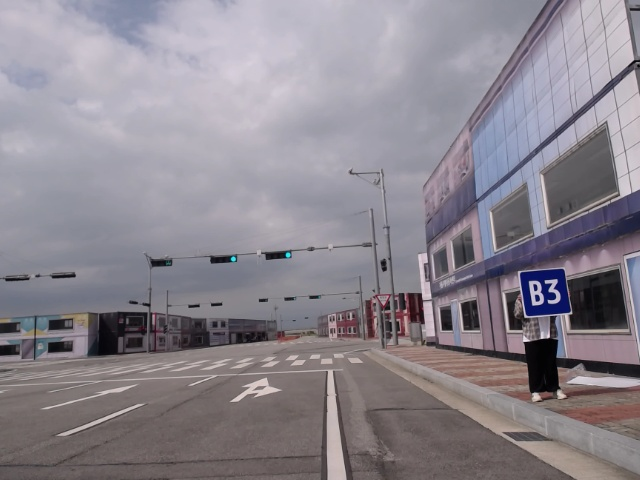delivery_b3: (517, 267, 572, 318)
straight_green_4: (208, 253, 241, 266), (264, 250, 294, 262), (283, 295, 299, 303), (308, 294, 323, 301)
